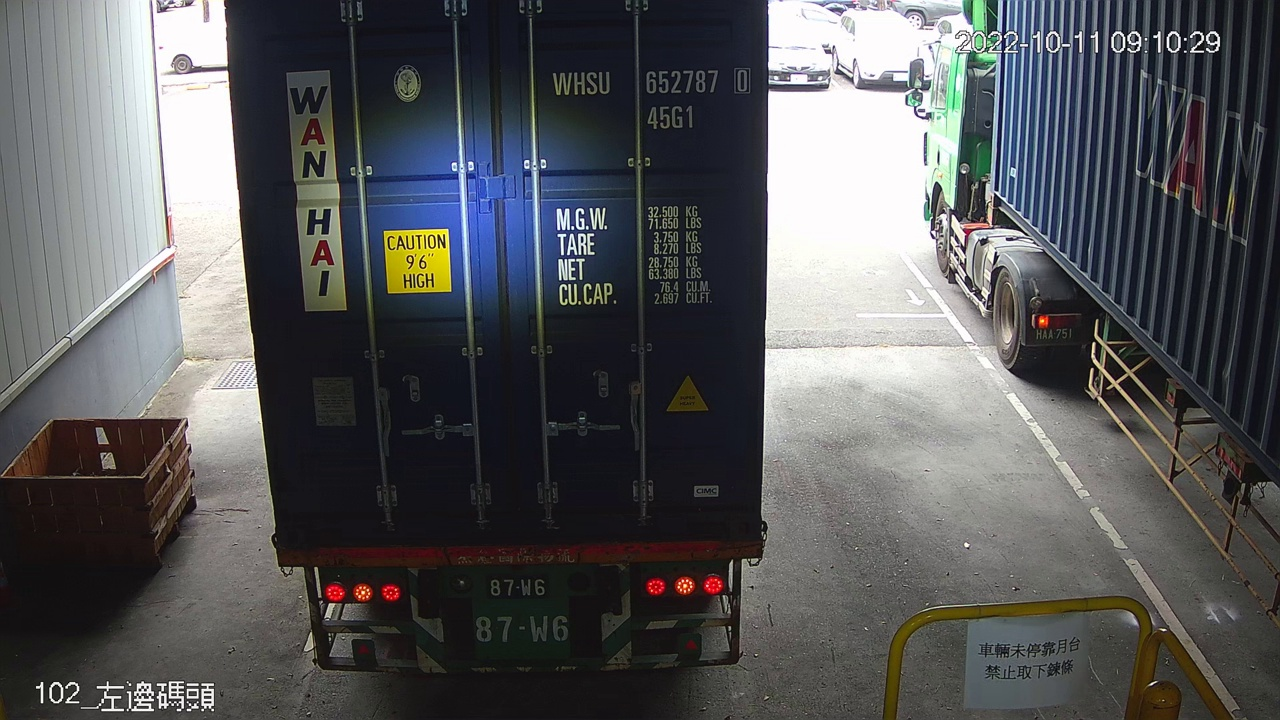container: (546, 62, 756, 139)
